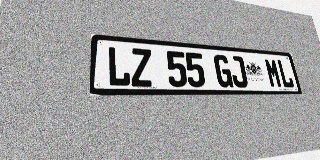5: (166, 51, 188, 87), (185, 52, 206, 87)
G: (213, 54, 234, 87)
J: (229, 55, 249, 87)
L: (107, 46, 131, 87), (276, 59, 295, 88)
M: (264, 58, 283, 88)
Z: (130, 48, 153, 87)
